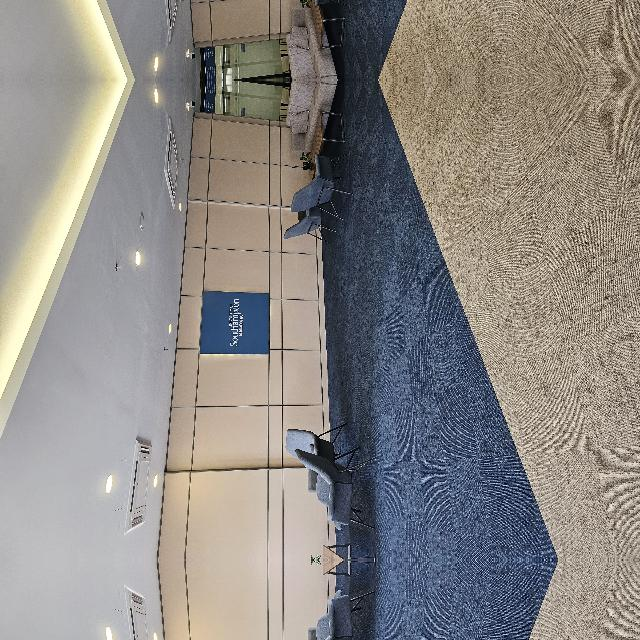obstacle: (314, 360, 480, 432), (21, 364, 139, 452)
